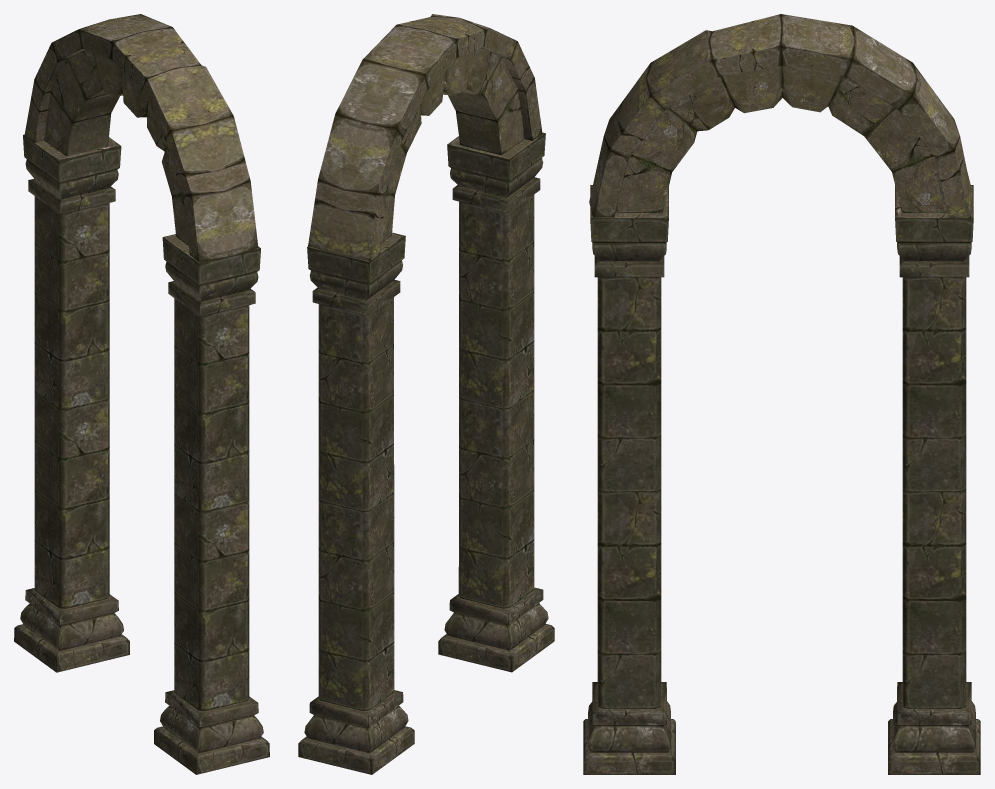
Rendered from Arch_05-transformed.glb.
The picture shows the model from 3 angles, left to right: view 1: azimuth 30°, elevation 25°; view 2: azimuth 150°, elevation 25°; view 3: azimuth 270°, elevation 25°; orthographic projection. The views are drawn at different scales.
Visible parts, largest first — view 1: default; view 2: default; view 3: default.
Part boxes in pixels (x1,y1,x2,y2): default: (14, 14, 269, 774); default: (298, 14, 554, 774); default: (583, 14, 980, 774).
Size of the model in its own units: 1.22 by 10.54 by 5.22.
2 materials, 2 textured.
